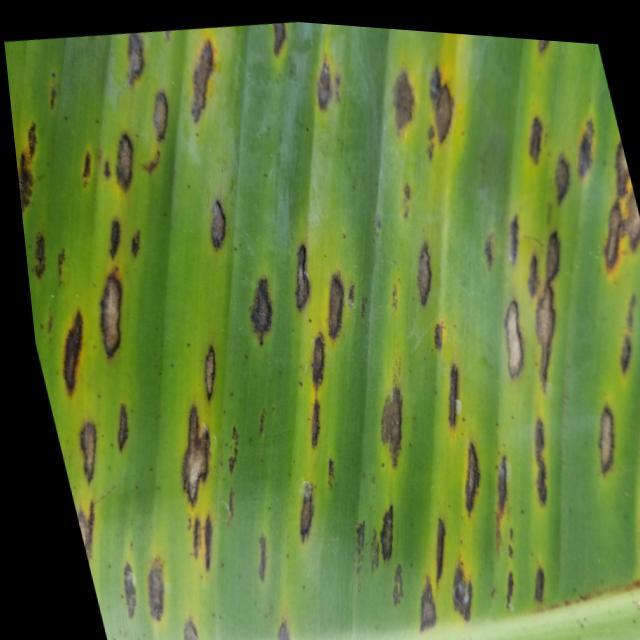Early_rust: (0, 23, 640, 636)
